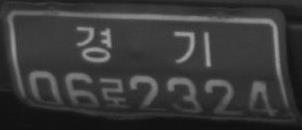0: (27, 69, 65, 106)
2: (204, 77, 245, 116), (131, 73, 168, 113)
3: (168, 74, 204, 114)
4: (246, 79, 279, 117)
6: (65, 70, 101, 110)
경기_D: (75, 25, 212, 68)
로: (100, 76, 131, 109)
